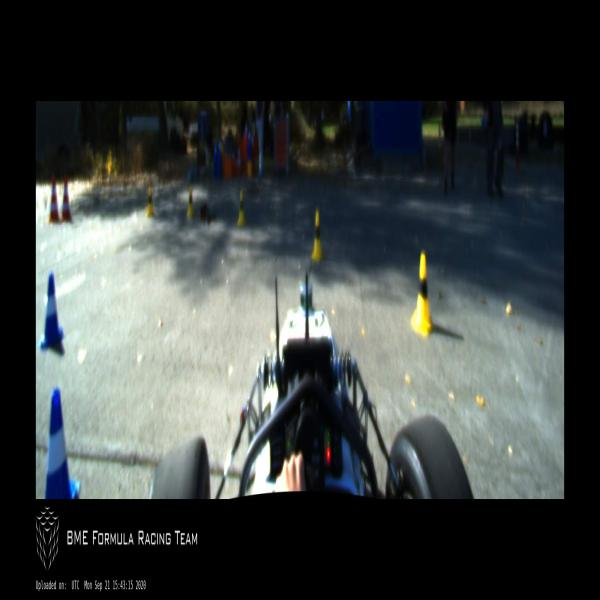blue_cone: (45, 388, 81, 498), (40, 273, 64, 348)
large_orange_cone: (49, 177, 60, 222), (61, 177, 72, 220)
yellow_cone: (412, 253, 432, 337), (311, 211, 323, 261), (238, 190, 246, 225), (146, 187, 154, 216), (187, 187, 194, 216)
